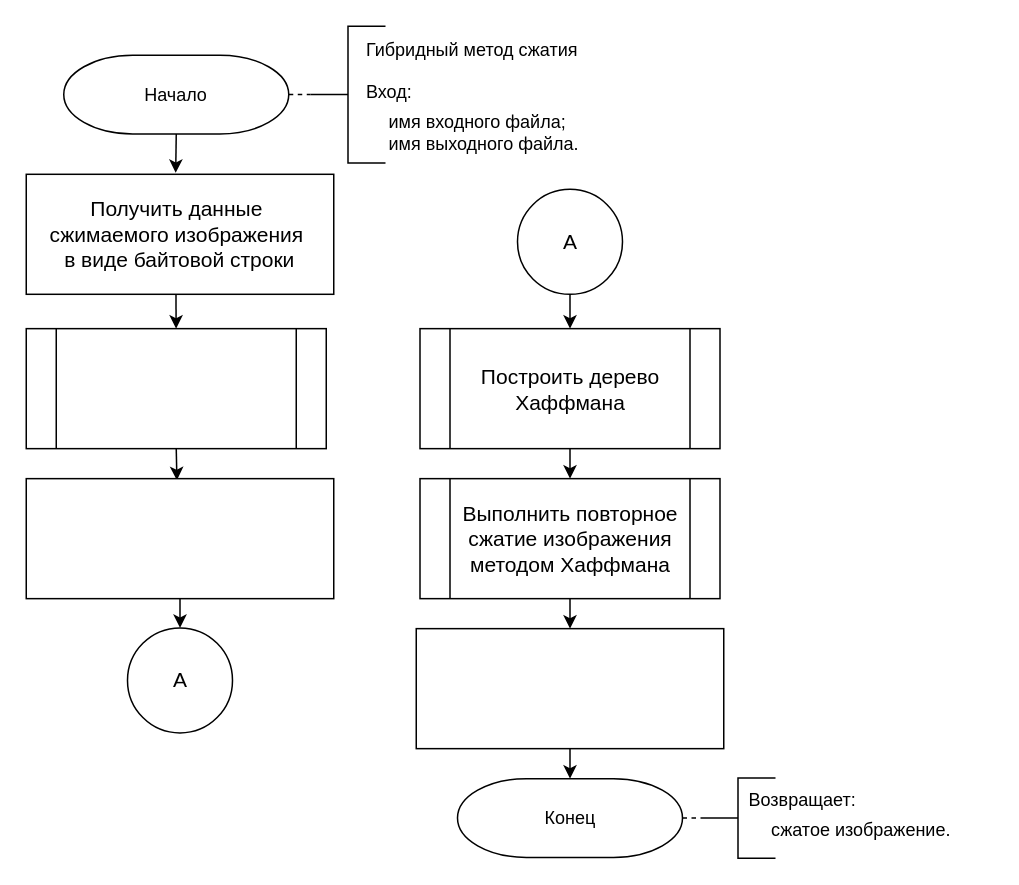
This 1019x885 diagram has some shape labels left out. The shapes that lost their labels are listed below. From the top down, each one's centre as x and y in pixels, then its label:
At (175,388): "Выполнить первичное сжатие изображения методом LZW".
At (179,538): "Найти таблицу частот символов".
At (569,688): "Создать файл с сжатым изображением".
